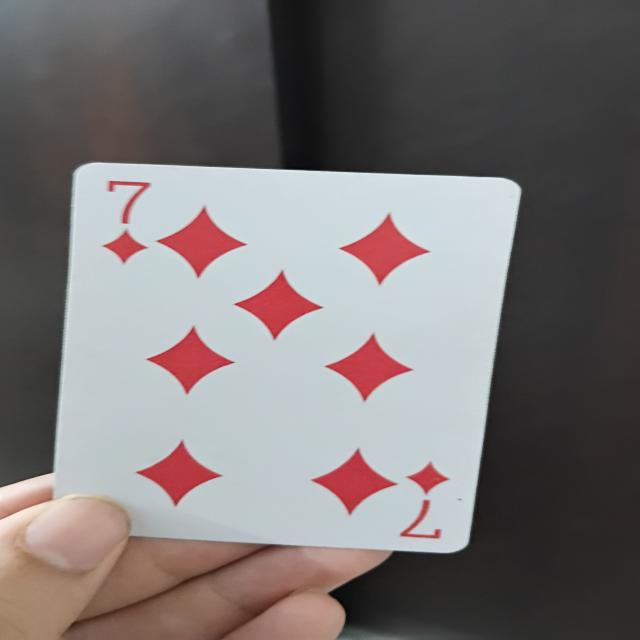7D: (83, 164, 480, 550)
